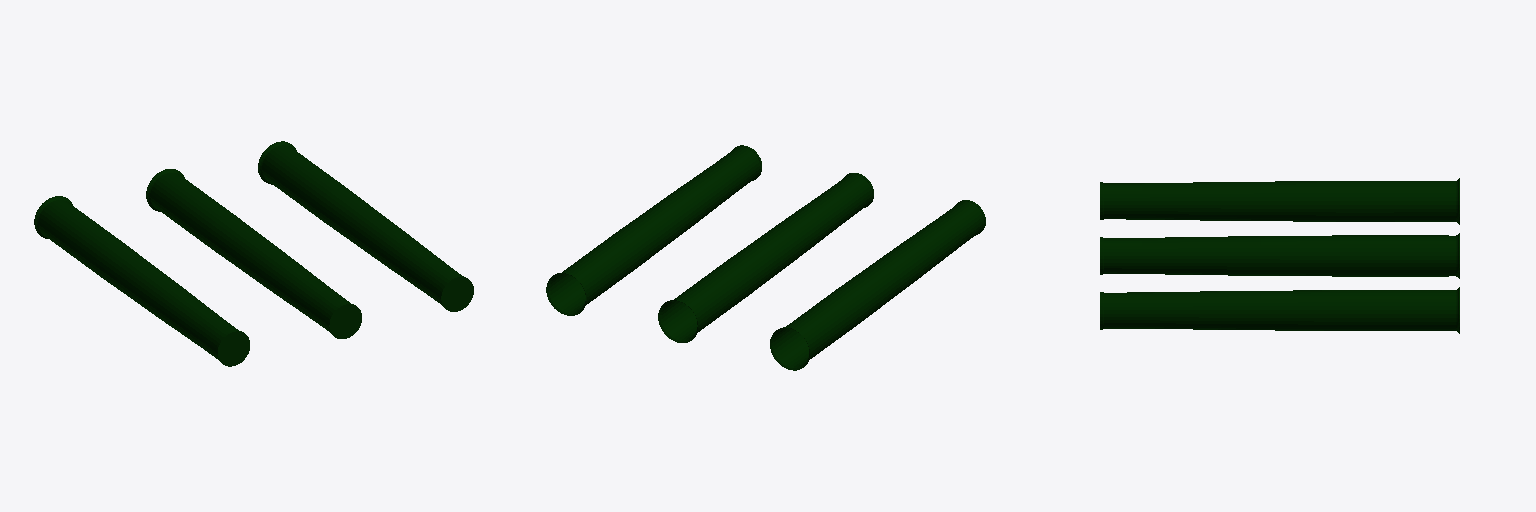
File: USV110.obj
3 renders of one model, left to right at view 1: azimuth 30°, elevation 25°; view 2: azimuth 150°, elevation 25°; view 3: azimuth 270°, elevation 25°, orthographic.
Parts seen in each view (by area): view 1: USV110; view 2: USV110; view 3: USV110.
Boxes of the visible parts, x1=… form: USV110: x1=34, y1=141, x2=473, y2=366; USV110: x1=546, y1=145, x2=985, y2=370; USV110: x1=1100, y1=178, x2=1459, y2=333.
Bounding box in the file's own units: 5.02 × 0.7633 × 5.93.